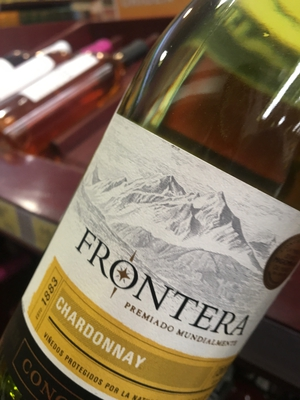frontera chardonnay: (25, 4, 293, 400)
